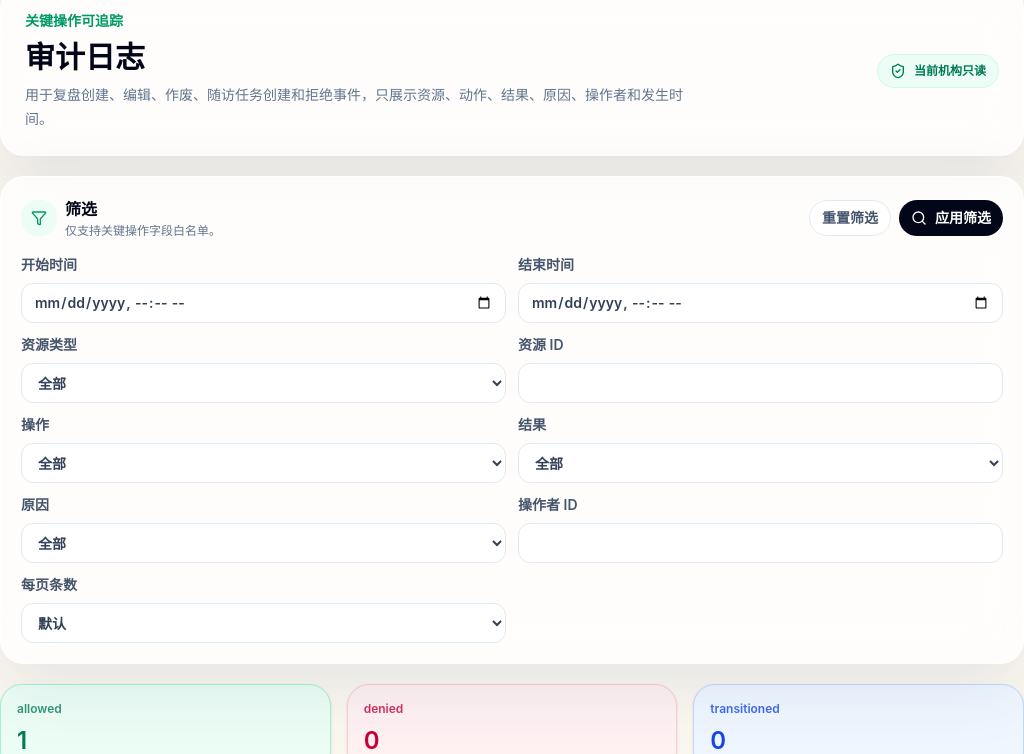
Scenario: 机构业务页面壳 › 审计日志 replace 覆盖旧 ref 后 append 只合并新快照
The width and height of the screenshot is (1024, 754).
Step 1. Click the button "应用筛选" → (951, 218), box [899, 200, 1003, 236]
(page scrolled)
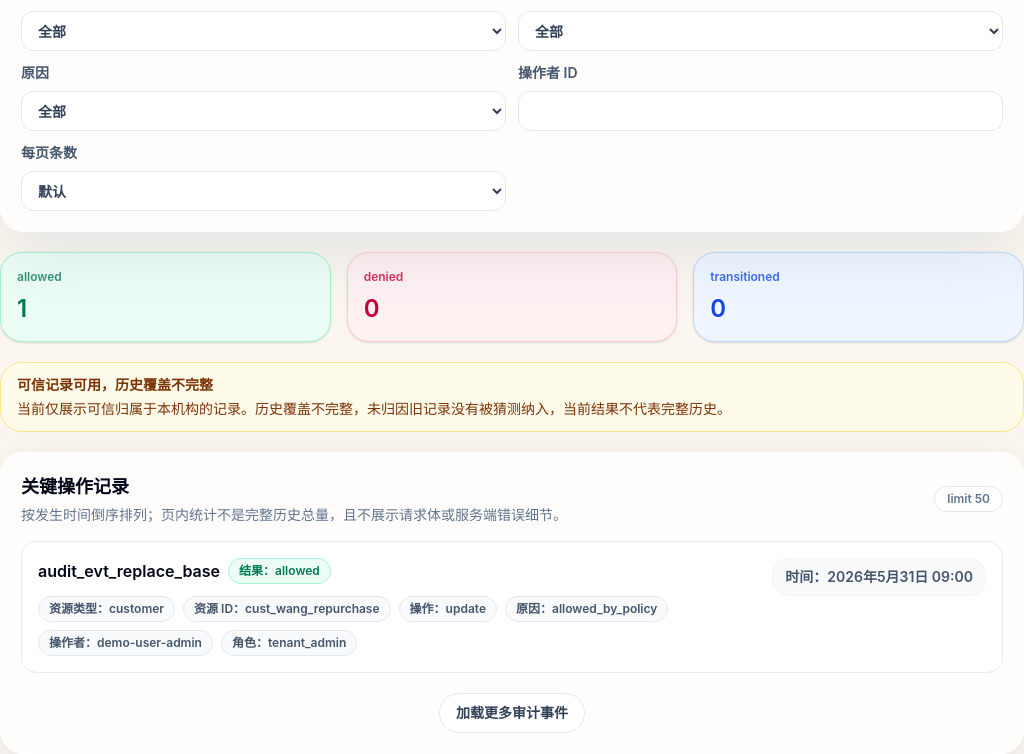
Result: the text "audit_evt_replace_base" is shown at [38, 559, 220, 583]
Step 2. Click the button "加载更多审计事件" → (512, 713), box [439, 693, 585, 733]
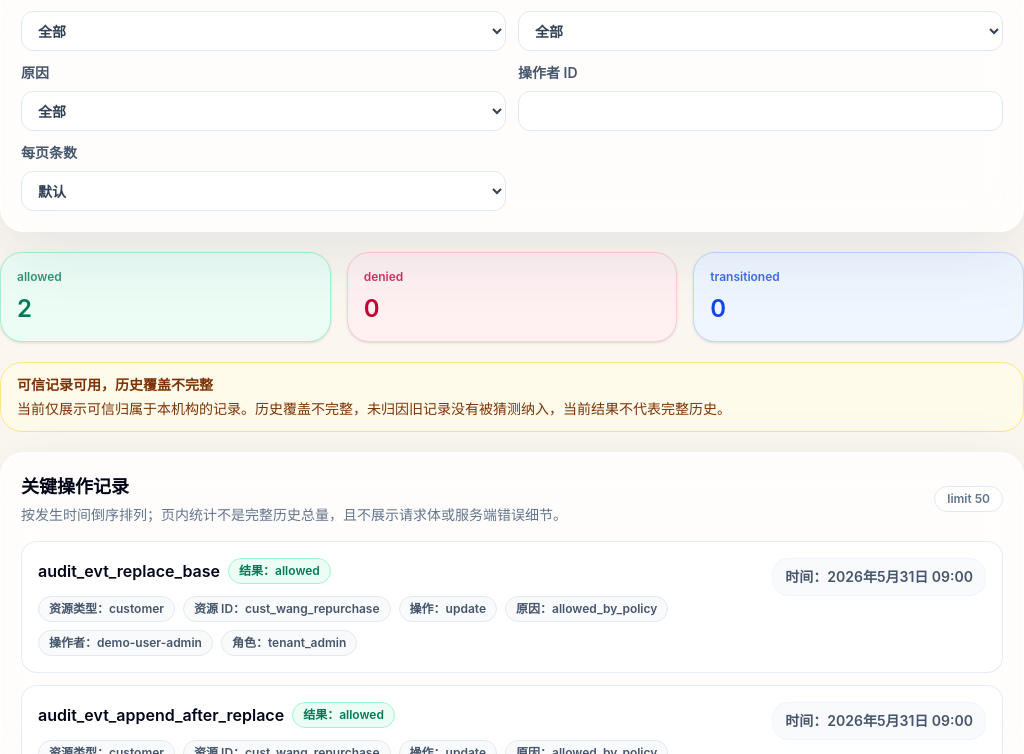
Result: the text "audit_evt_replace_base" is shown at [38, 559, 220, 583]
Result: the text "audit_evt_append_after_replace" is shown at [38, 703, 284, 727]
